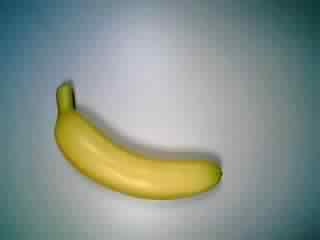banana: (49, 84, 223, 202)
